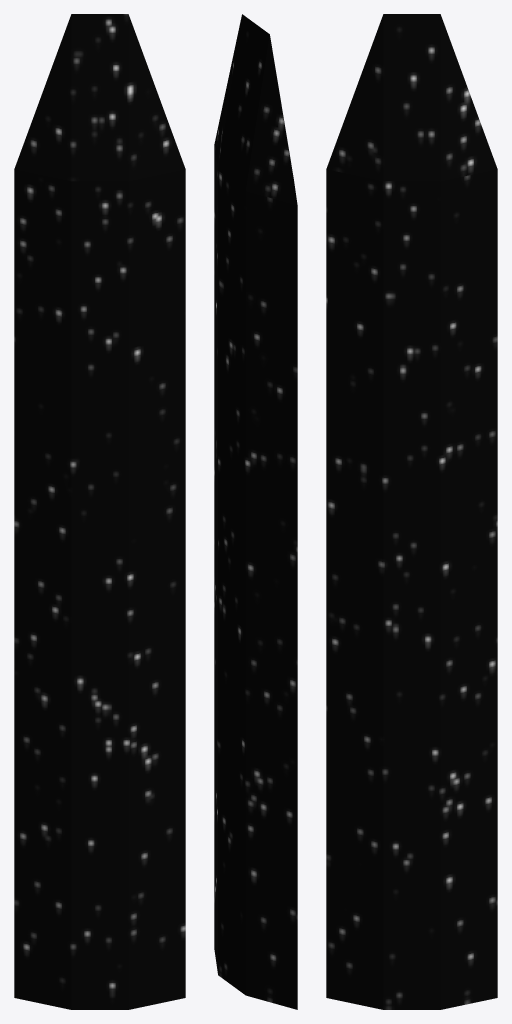
The model's file is astro_blade_blade.obj.
3 renders of one model, left to right at view 1: azimuth 90°, elevation 25°; view 2: azimuth 210°, elevation 25°; view 3: azimuth 270°, elevation 25°, orthographic. The views are drawn at different scales.
Parts seen in each view (by area): view 1: Blade_Cube.006; view 2: Blade_Cube.006; view 3: Blade_Cube.006.
Boxes of the visible parts, bbox=[...] form: Blade_Cube.006: bbox=[14, 14, 185, 1009]; Blade_Cube.006: bbox=[214, 14, 297, 1009]; Blade_Cube.006: bbox=[326, 14, 497, 1009].
Size of the model in its own units: 0.0625 by 1.19 by 0.1875.
